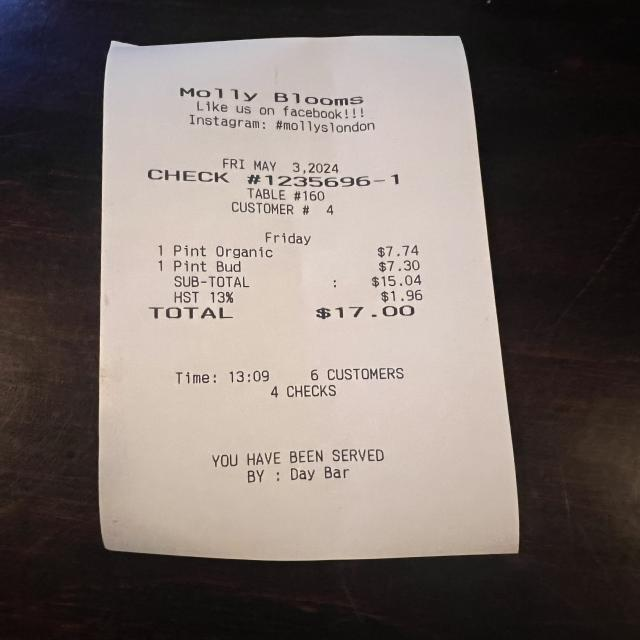item: (168, 256, 429, 277), (168, 240, 429, 260)
store_name: (170, 86, 372, 108)
total_amount: (142, 302, 430, 326)
transaction_date: (218, 152, 344, 178)
